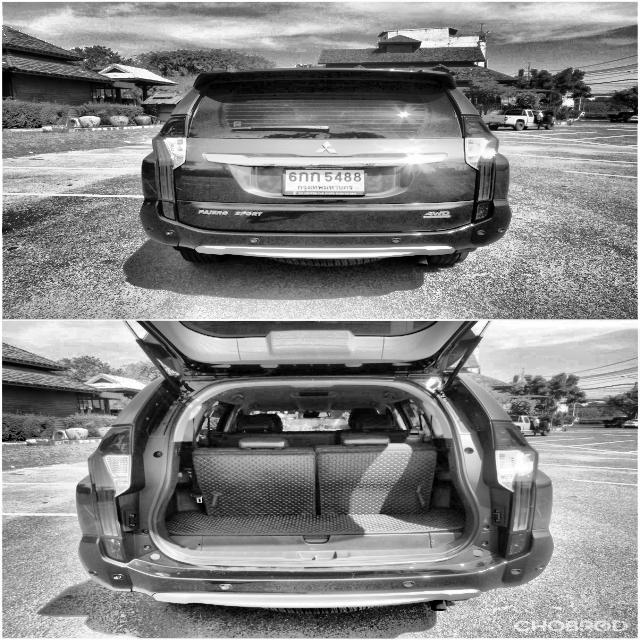license-plate: (285, 166, 366, 197)
